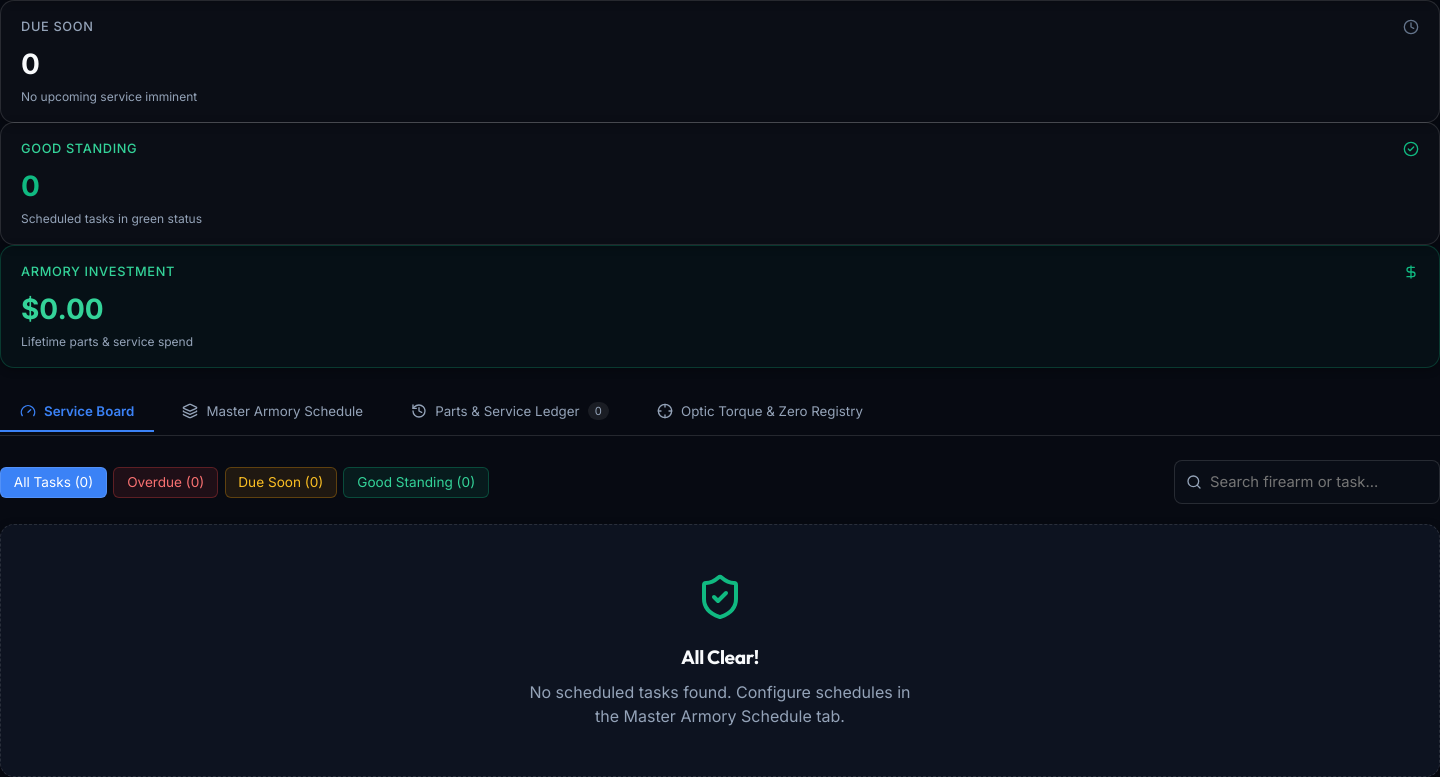
it: MaintenanceDashboard (Armorer Command Center) › switches to Parts & Service Ledger and filters entries
The image size is (1440, 777).
(page scrolled)
What coordinates should you click on to do the following:
click the text "Parts & Service Ledger"
I would click on:
 (507, 411)
Its box is [435,403,580,419].
(page scrolled)
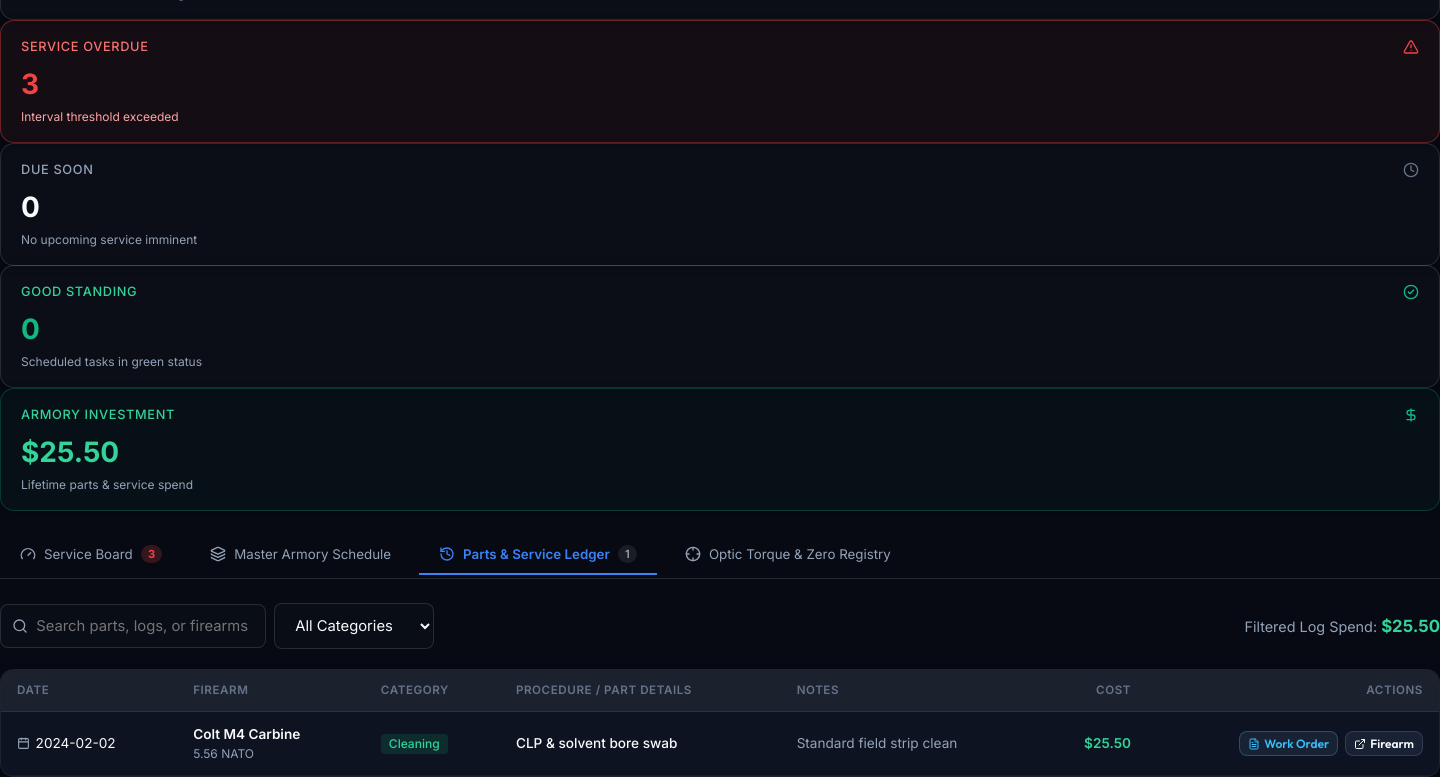
Now the text "CLP & solvent bore swab" is shown, box [516,736,677,752]
Now the text "Standard field strip clean" is shown, box [781,712,1041,776]
